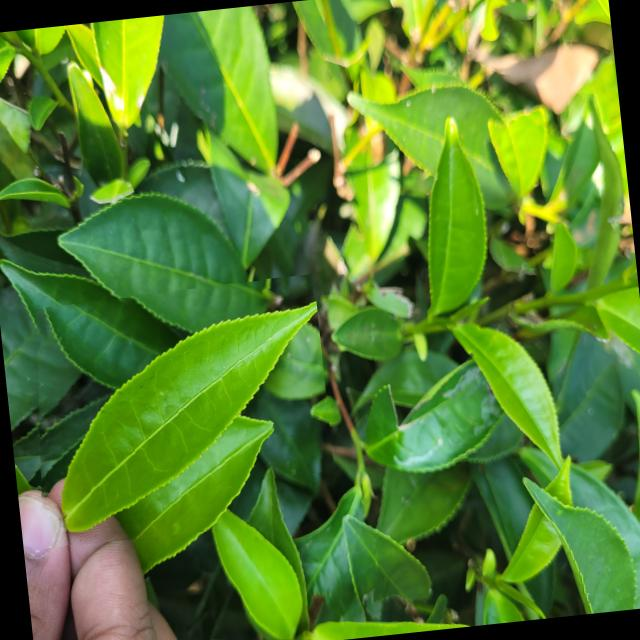Catagory A(1-2 days): (15, 272, 338, 548)
